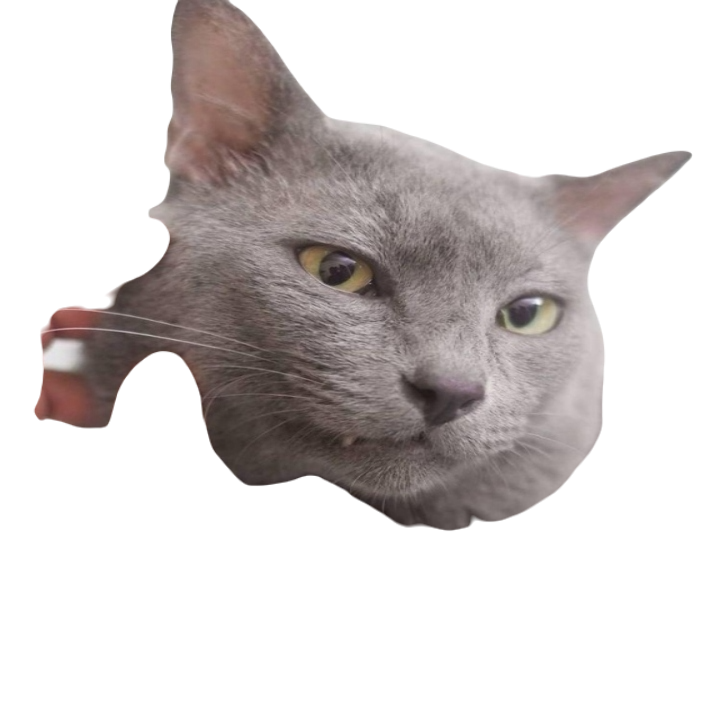Cat: (20, 0, 695, 524)
